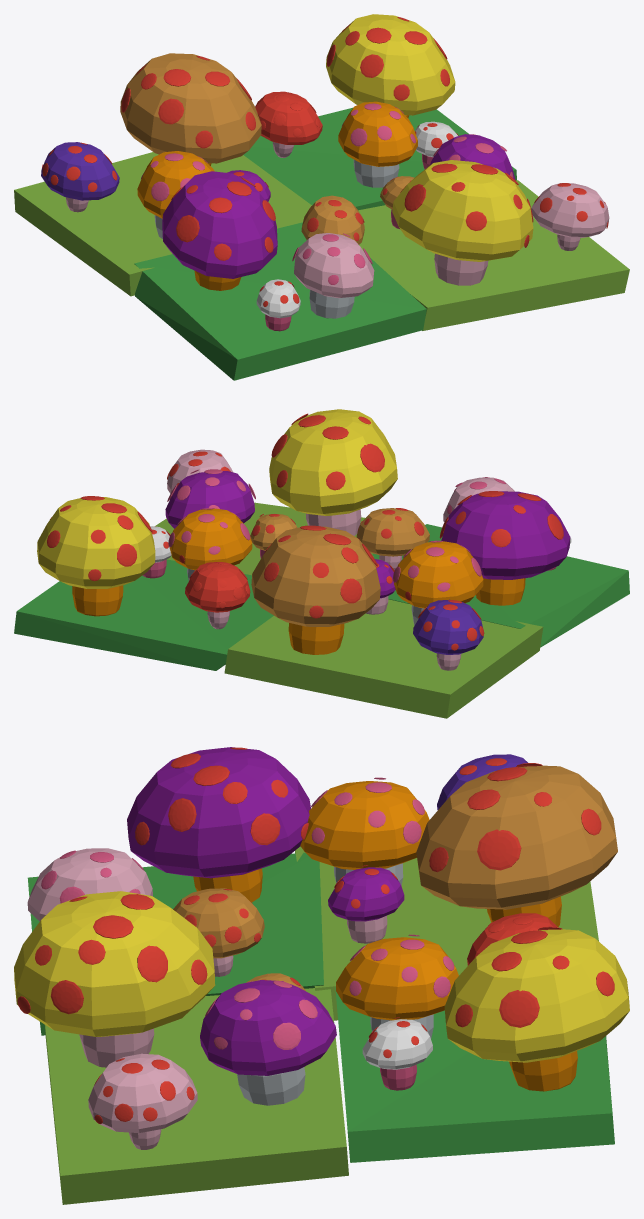
3 views of the same model, one above another, from view 1: azimuth 30°, elevation 25°; view 2: azimuth 150°, elevation 25°; view 3: azimuth 270°, elevation 25° (orthographic). The views are drawn at different scales.
Parts seen in each view (by area): view 1: node_MeshObject1770778624-PolyPaper12, node_MeshObject-1380030464-PolyPaper7, node_MeshObject336505856-PolyPaper8, node_MeshObject908584960-PolyPaper8, node_MeshObject-1952109568-PolyPaper8; view 2: node_MeshObject1770778624-PolyPaper12, node_MeshObject336505856-PolyPaper8, node_MeshObject-1380030464-PolyPaper7, node_MeshObject908584960-PolyPaper8, node_MeshObject-1952109568-PolyPaper8; view 3: node_MeshObject1770778624-PolyPaper12, node_MeshObject336505856-PolyPaper8, node_MeshObject-1380030464-PolyPaper7, node_MeshObject908584960-PolyPaper8, node_MeshObject-1952109568-PolyPaper8.
Part boxes in pixels (left/top/right/bottom): node_MeshObject1770778624-PolyPaper12: left=14, top=53, right=629, bottom=380; node_MeshObject-1380030464-PolyPaper7: left=171, top=14, right=455, bottom=331; node_MeshObject336505856-PolyPaper8: left=162, top=134, right=609, bottom=290; node_MeshObject908584960-PolyPaper8: left=392, top=160, right=533, bottom=261; node_MeshObject-1952109568-PolyPaper8: left=80, top=17, right=458, bottom=187; node_MeshObject1770778624-PolyPaper12: left=14, top=502, right=629, bottom=718; node_MeshObject336505856-PolyPaper8: left=165, top=413, right=570, bottom=605; node_MeshObject-1380030464-PolyPaper7: left=37, top=477, right=571, bottom=616; node_MeshObject908584960-PolyPaper8: left=269, top=409, right=397, bottom=515; node_MeshObject-1952109568-PolyPaper8: left=47, top=503, right=435, bottom=629; node_MeshObject1770778624-PolyPaper12: left=27, top=754, right=617, bottom=1204; node_MeshObject336505856-PolyPaper8: left=17, top=747, right=336, bottom=1149; node_MeshObject-1380030464-PolyPaper7: left=27, top=747, right=629, bottom=1091; node_MeshObject908584960-PolyPaper8: left=14, top=891, right=215, bottom=1036; node_MeshObject-1952109568-PolyPaper8: left=336, top=789, right=614, bottom=1090.
Bounding box in the file's own units: 2.27 × 0.867 × 2.02.
